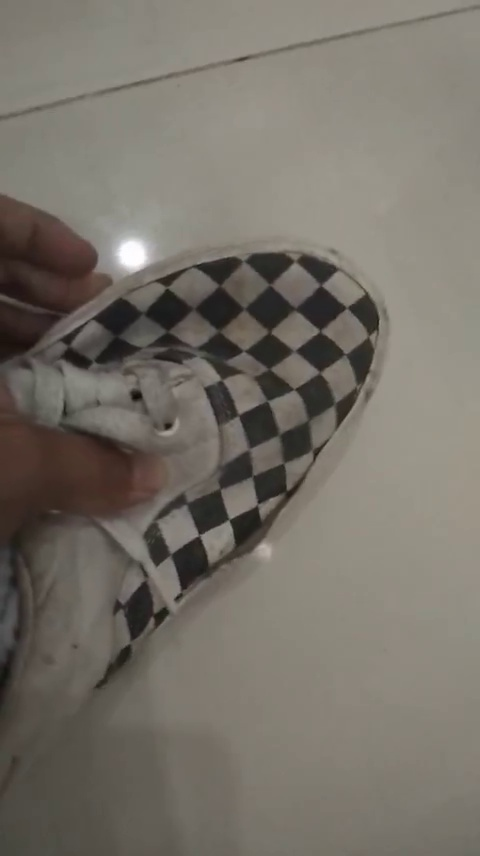bonding: (168, 498, 288, 602)
